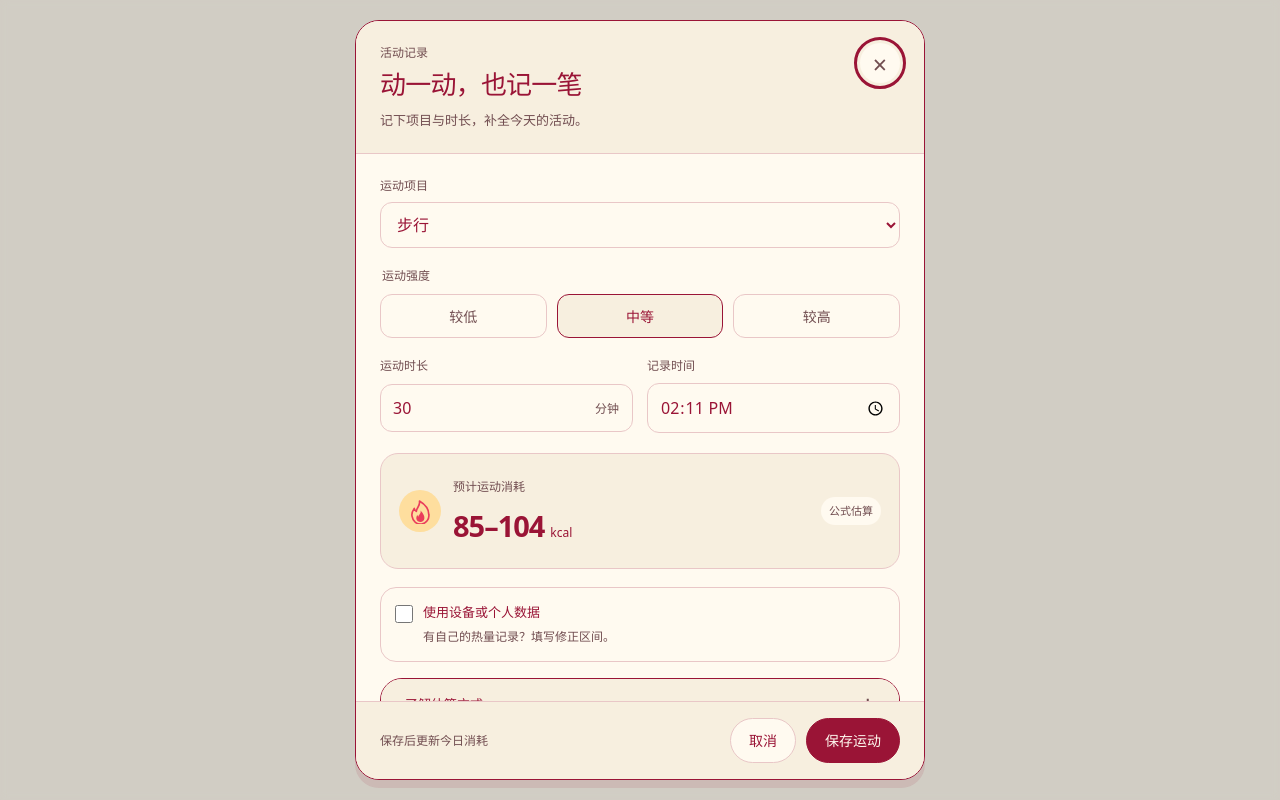
it: exercise dialog › does not offer duplicate creation after an ambiguous timeout
The image size is (1280, 800).
Step 1. Click the button "保存运动" → click(853, 740), box [806,718,900,763]
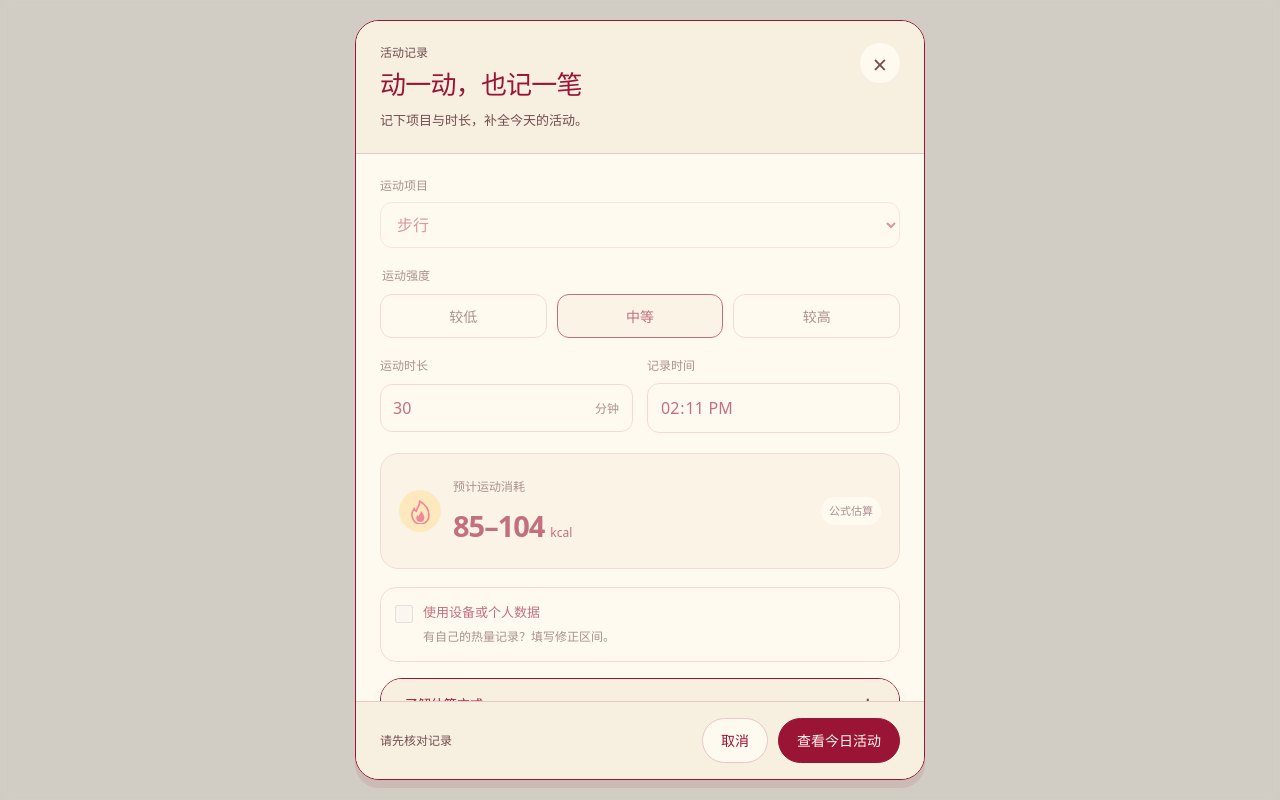
Expected: the button "查看今日活动" is shown, [778,718,900,763]
